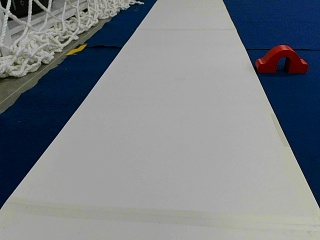bridge: (257, 45, 307, 72)
